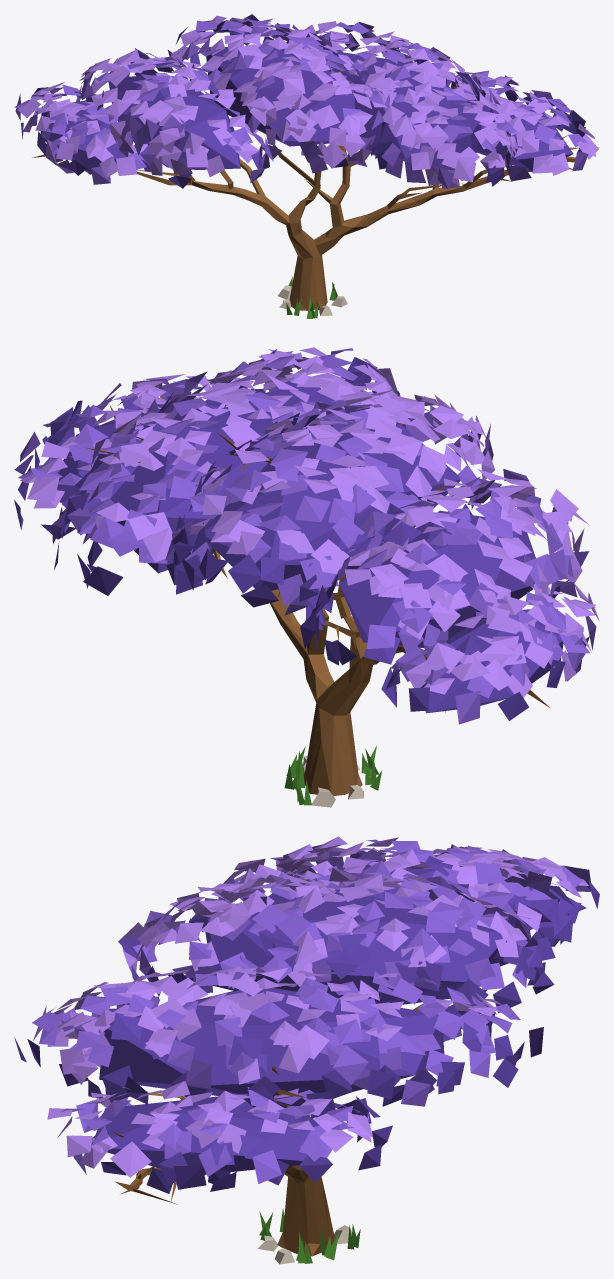
File: jacaranda_4_bloom.glb
3 views of the same model, one above another, from view 1: azimuth 30°, elevation 25°; view 2: azimuth 150°, elevation 25°; view 3: azimuth 270°, elevation 25° (orthographic). The views are drawn at different scales.
Visible parts, largest first — view 1: jacaranda_4_bloom; view 2: jacaranda_4_bloom; view 3: jacaranda_4_bloom.
Part boxes in pixels (left/top/right/bottom): jacaranda_4_bloom: left=14, top=14, right=598, bottom=318; jacaranda_4_bloom: left=14, top=347, right=599, bottom=807; jacaranda_4_bloom: left=14, top=836, right=599, bottom=1264.
Size of the model in its own units: 10.91 by 5.94 by 9.01.
